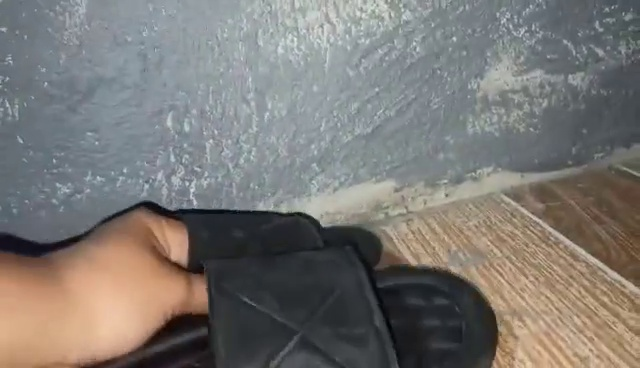slipper: (110, 245, 501, 368), (165, 215, 385, 283)
